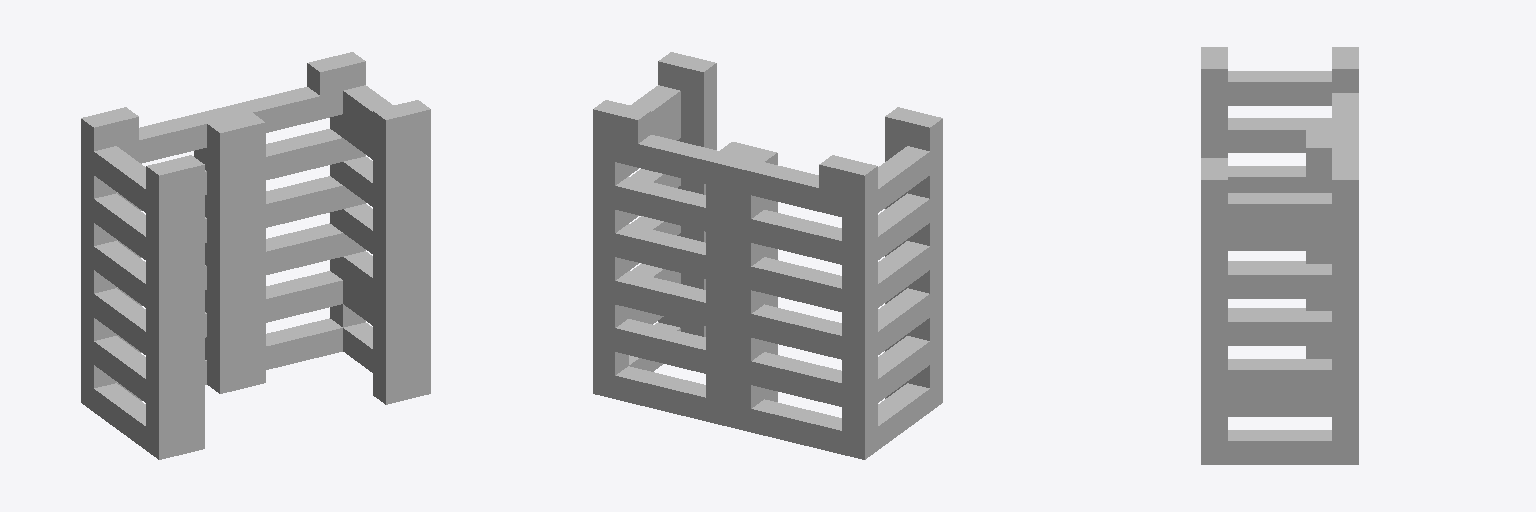
Rendered from WeaponRack.obj.
The picture shows the model from 3 angles: view 1: azimuth 30°, elevation 25°; view 2: azimuth 150°, elevation 25°; view 3: azimuth 270°, elevation 25°; orthographic projection.
Parts seen in each view (by area): view 1: object 1; view 2: object 1; view 3: object 1.
Boxes of the visible parts, x1=… form: object 1: x1=81, y1=52, x2=430, y2=459; object 1: x1=593, y1=52, x2=942, y2=459; object 1: x1=1201, y1=47, x2=1358, y2=464.
Size of the model in its own units: 1.2 by 1.2 by 0.6.